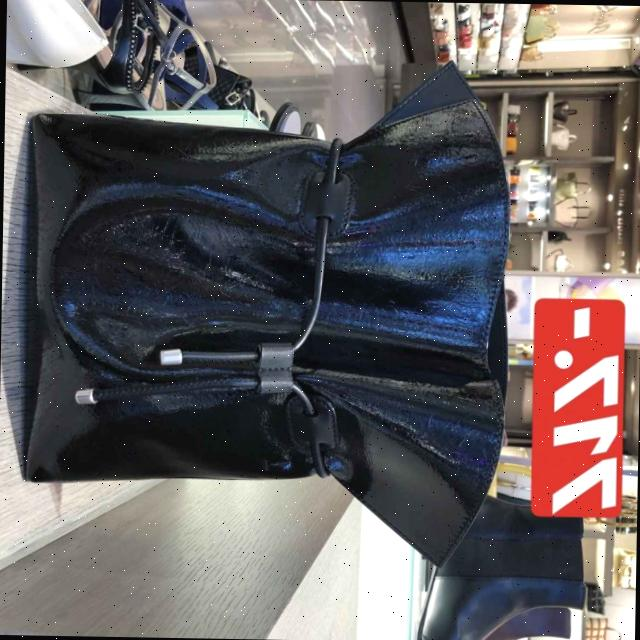Handbag: (16, 62, 512, 575)
